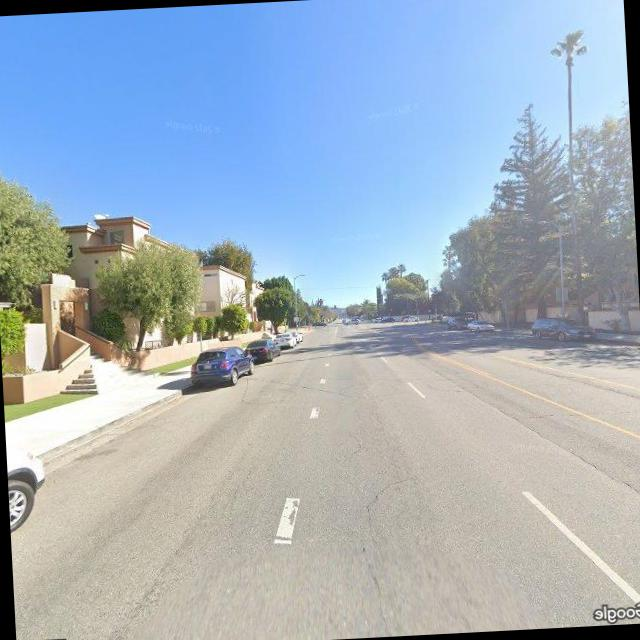pothole: (356, 466, 422, 543)
